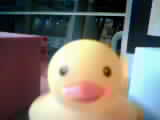duck: (17, 40, 149, 111)
